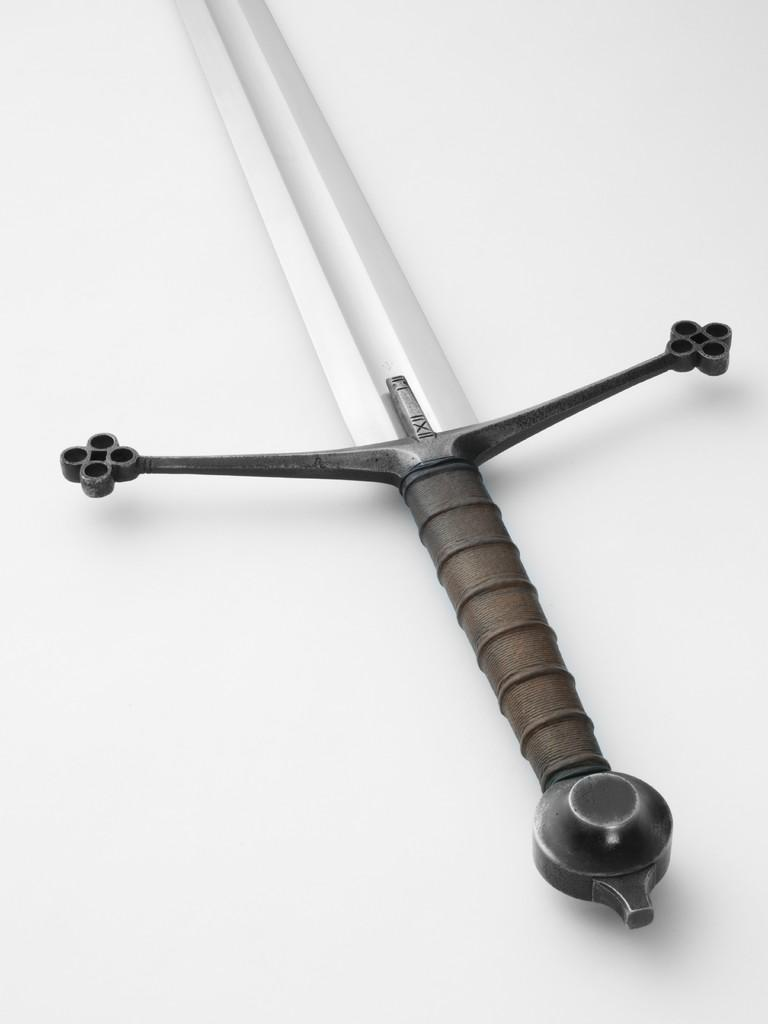Sword: (60, 0, 735, 930)
